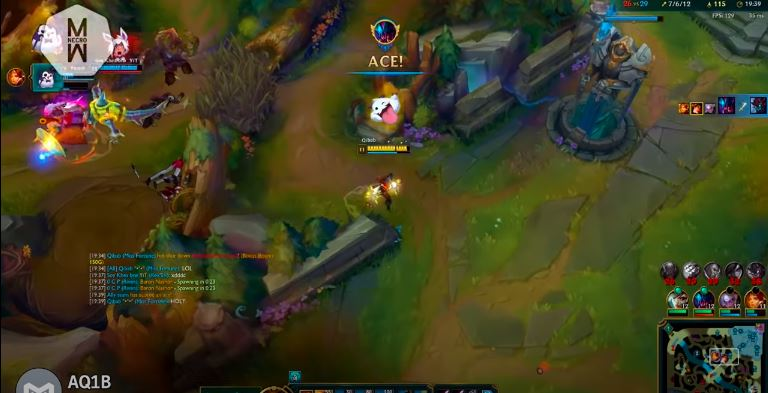bar: (352, 143, 414, 156), (39, 67, 94, 81), (89, 60, 143, 74)
